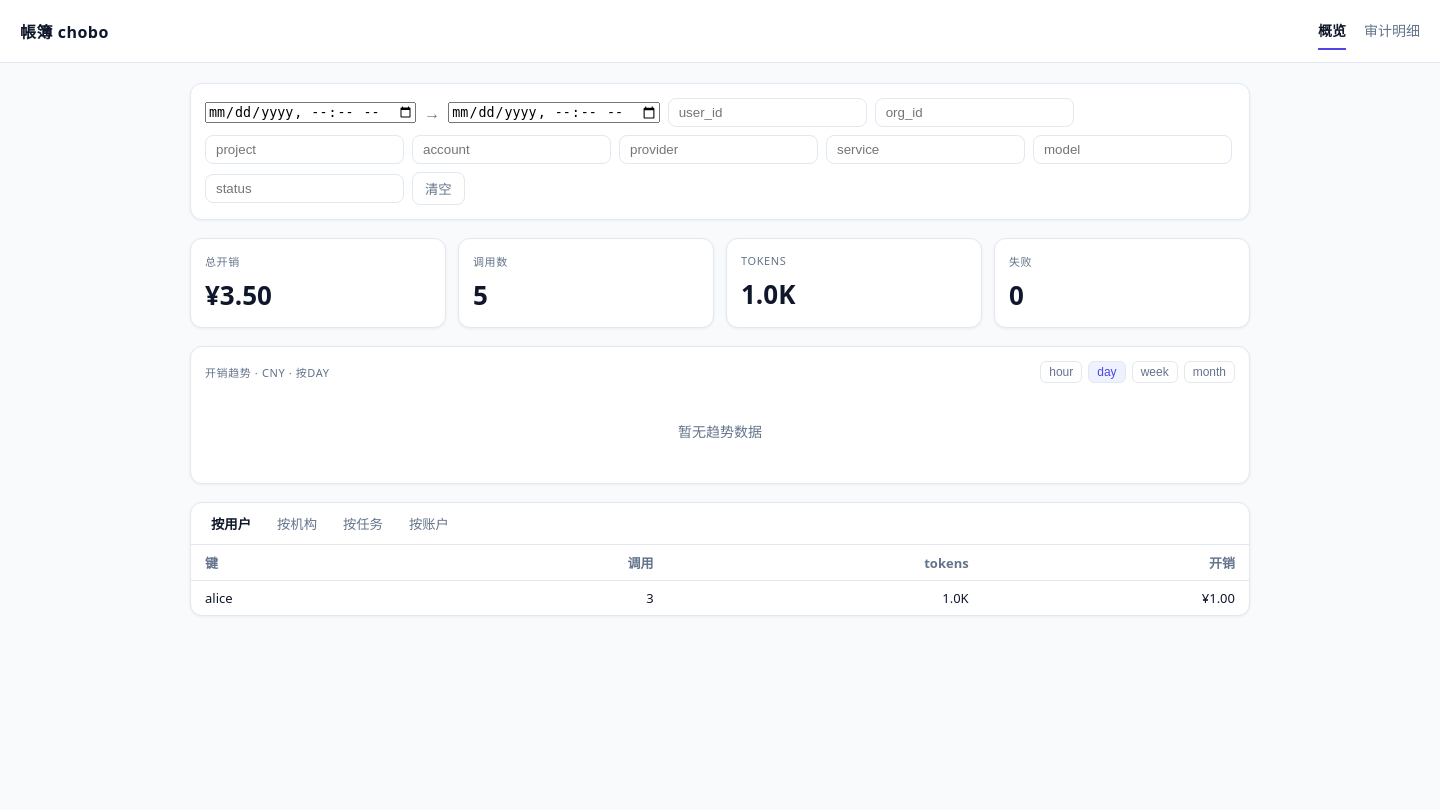
it: drilling a by-account row writes the account filter
Expected: the text "alice" is shown, [191,580,433,615]
Click the button "按账户": point(429, 524) [403,513,455,534]
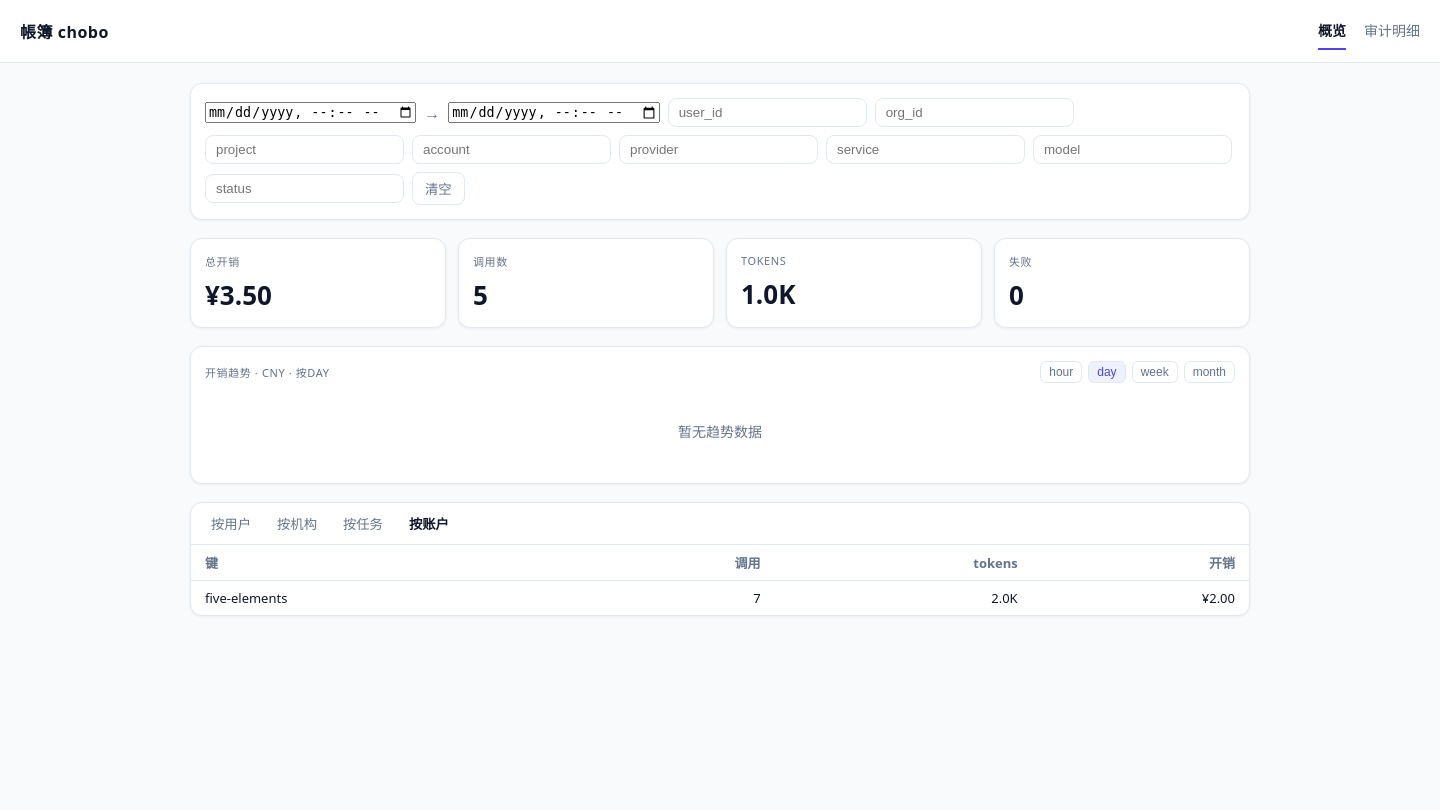
Expected: the text "five-elements" is shown
Click the text "five-elements": point(246, 598) [191,580,583,615]
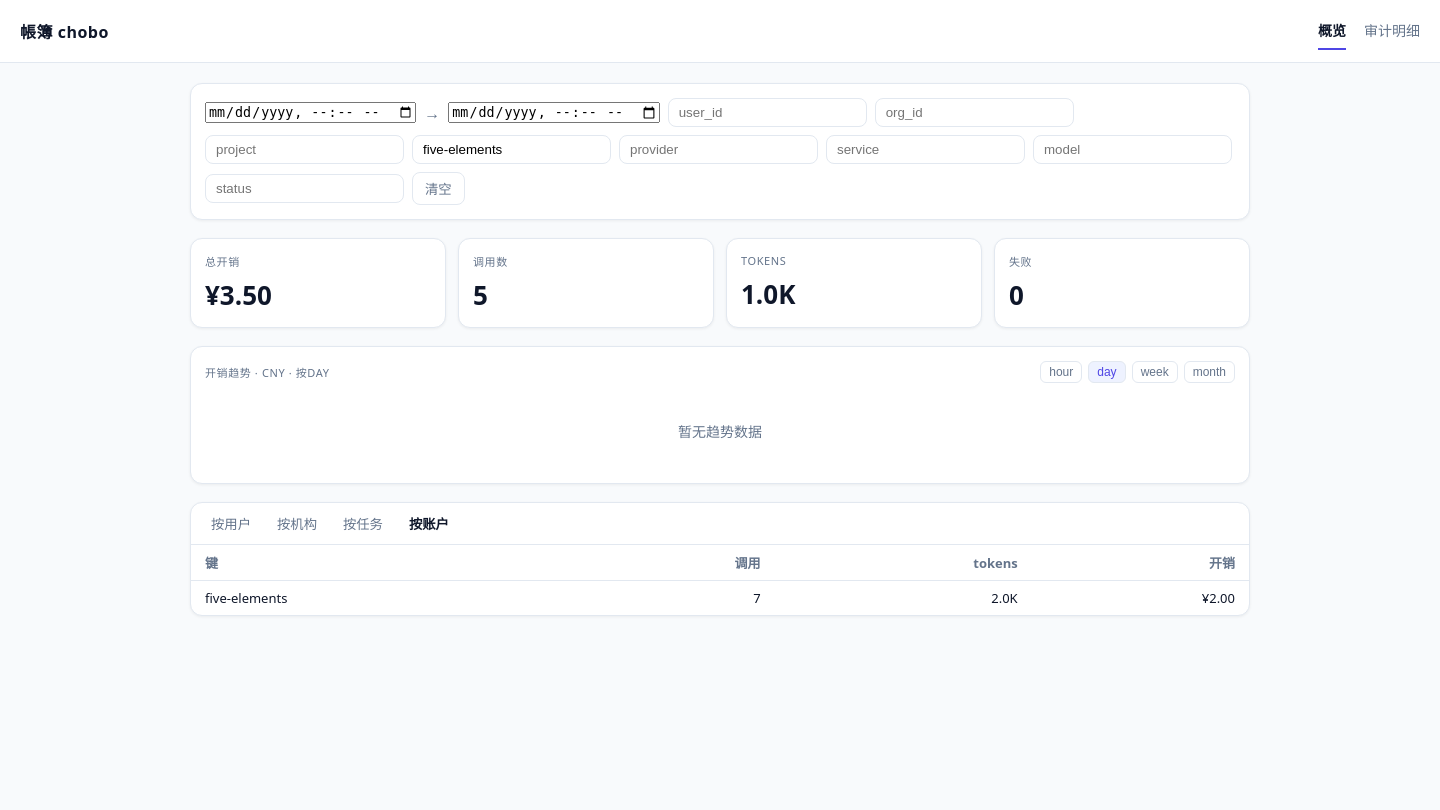
Expected: the field named "account" holds "five-elements", [412,135,611,164]
